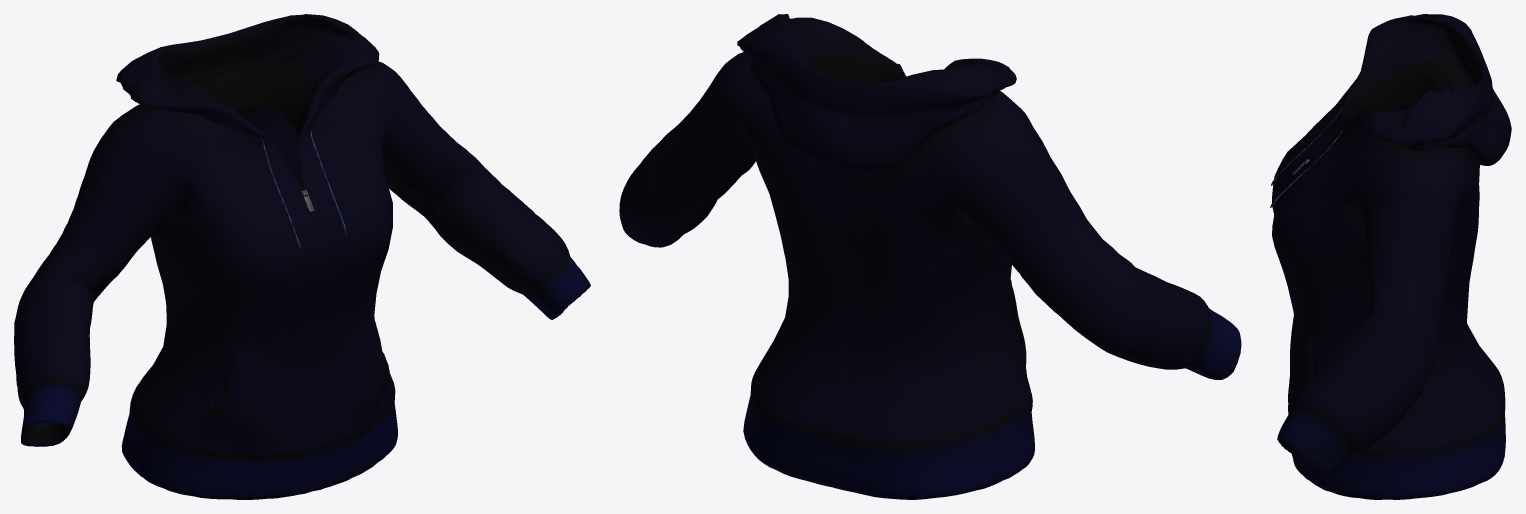
File: elvaerwyn-zip-hoodie.glb
3 renders of one model, left to right at view 1: azimuth 30°, elevation 25°; view 2: azimuth 150°, elevation 25°; view 3: azimuth 270°, elevation 25°, orthographic. The views are drawn at different scales.
Parts seen in each view (by area): view 1: Elvaerwyn_zip_hoodie; view 2: Elvaerwyn_zip_hoodie; view 3: Elvaerwyn_zip_hoodie.
Part boxes in pixels (<box>): Elvaerwyn_zip_hoodie: <box>14,14,590,499</box>; Elvaerwyn_zip_hoodie: <box>619,14,1241,499</box>; Elvaerwyn_zip_hoodie: <box>1270,14,1511,499</box>.
Size of the model in its own units: 0.9151 by 0.6252 by 0.3434.
1 material, 1 textured.
